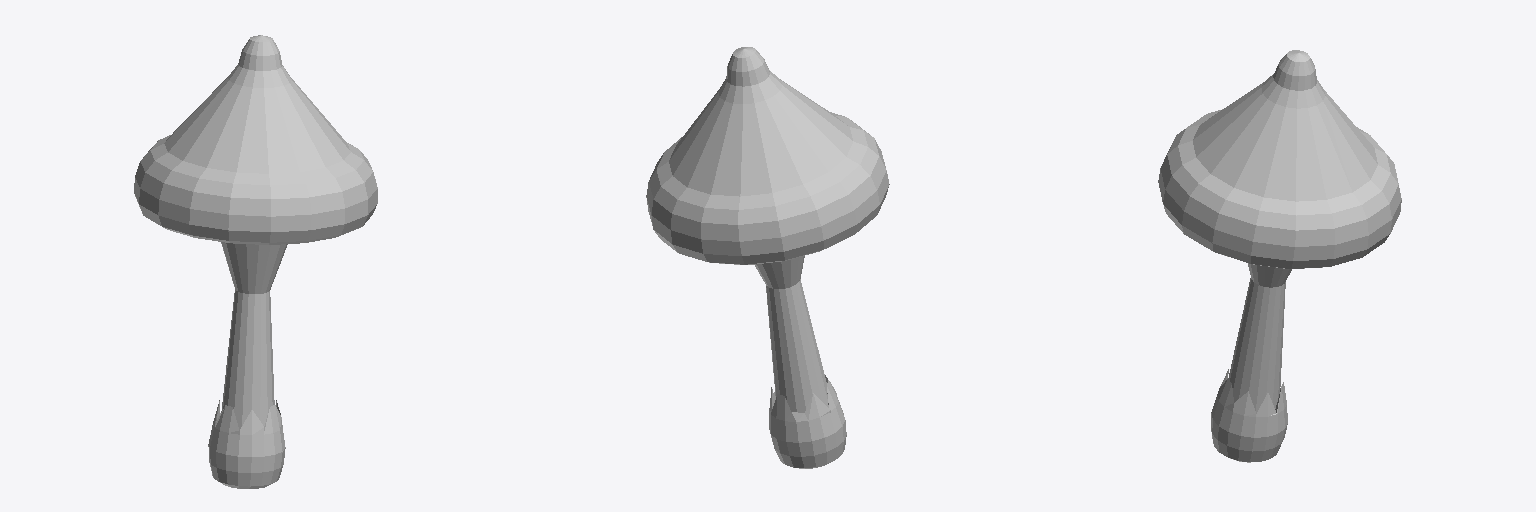
Rendered from mushroom_1_002.obj.
3 views of the same model, side by side, from view 1: azimuth 30°, elevation 25°; view 2: azimuth 150°, elevation 25°; view 3: azimuth 270°, elevation 25° (orthographic).
Visible parts, largest first — view 1: Champ-A2_Plane.020; view 2: Champ-A2_Plane.020; view 3: Champ-A2_Plane.020.
Boxes of the visible parts, x1=… form: Champ-A2_Plane.020: x1=134, y1=35, x2=377, y2=488; Champ-A2_Plane.020: x1=646, y1=47, x2=889, y2=468; Champ-A2_Plane.020: x1=1158, y1=50, x2=1401, y2=462.
Size of the model in its own units: 0.9912 by 1.9 by 0.9969.